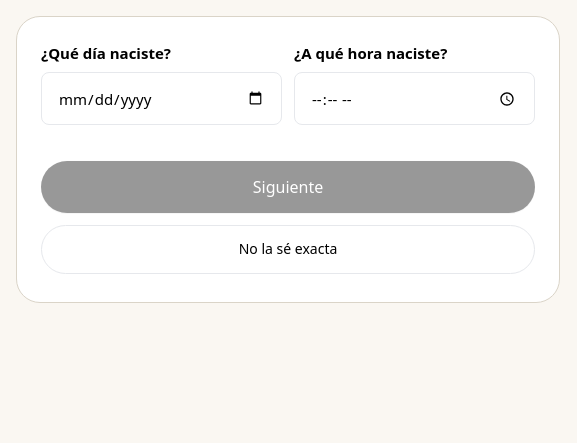
Test: Cuando › keeps the CTA disabled until the date is valid and the hour answered
Expected: the button "Siguiente" is disabled, [41,161,535,213]
Type "2000-07-28" into the date field labelled "¿Qué día naciste?" at (162, 99), box [41,72,282,125]
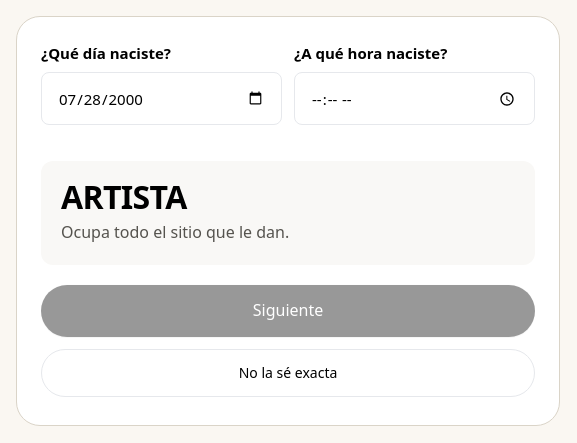
Expected: the button "Siguiente" is disabled, [41,285,535,337]
Type "22:45" into the time field labelled "¿A qué hora naciste?" at (414, 99), box [294,72,535,125]
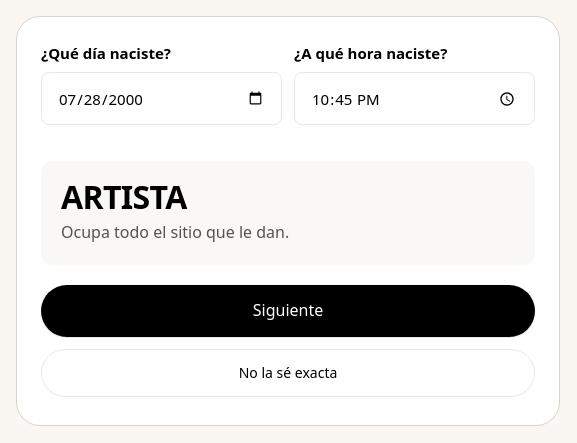
Result: the button "Siguiente" is enabled at [41,285,535,337]
